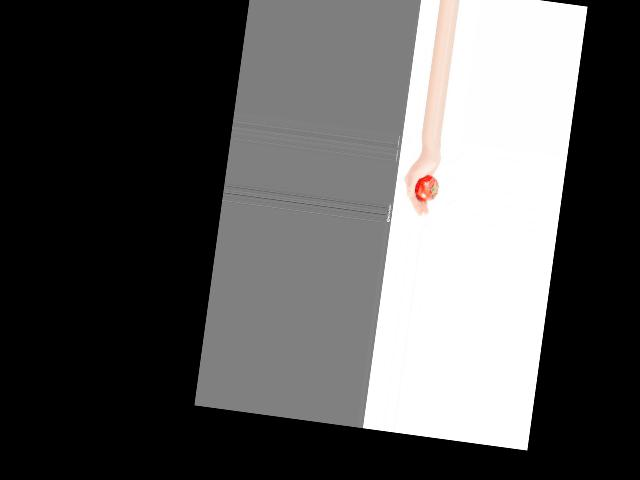tomato: (414, 172, 439, 201)
